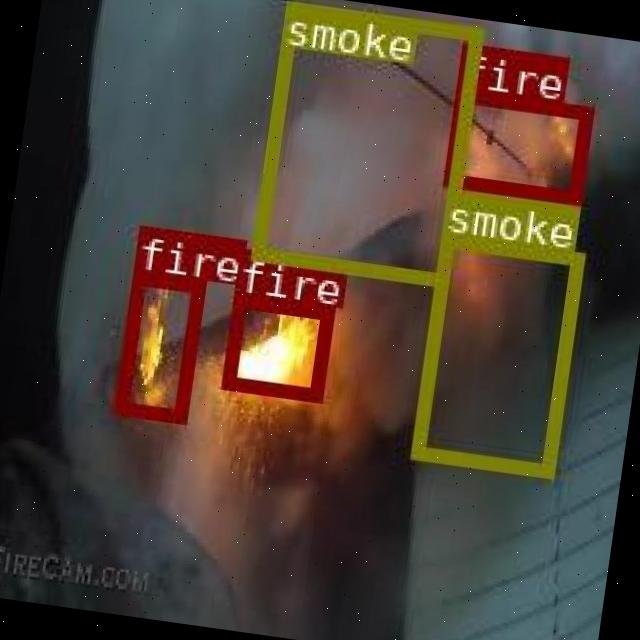fire: (442, 86, 590, 202), (112, 267, 204, 420), (220, 292, 332, 400)
smoke: (250, 0, 480, 285), (410, 232, 582, 476)
